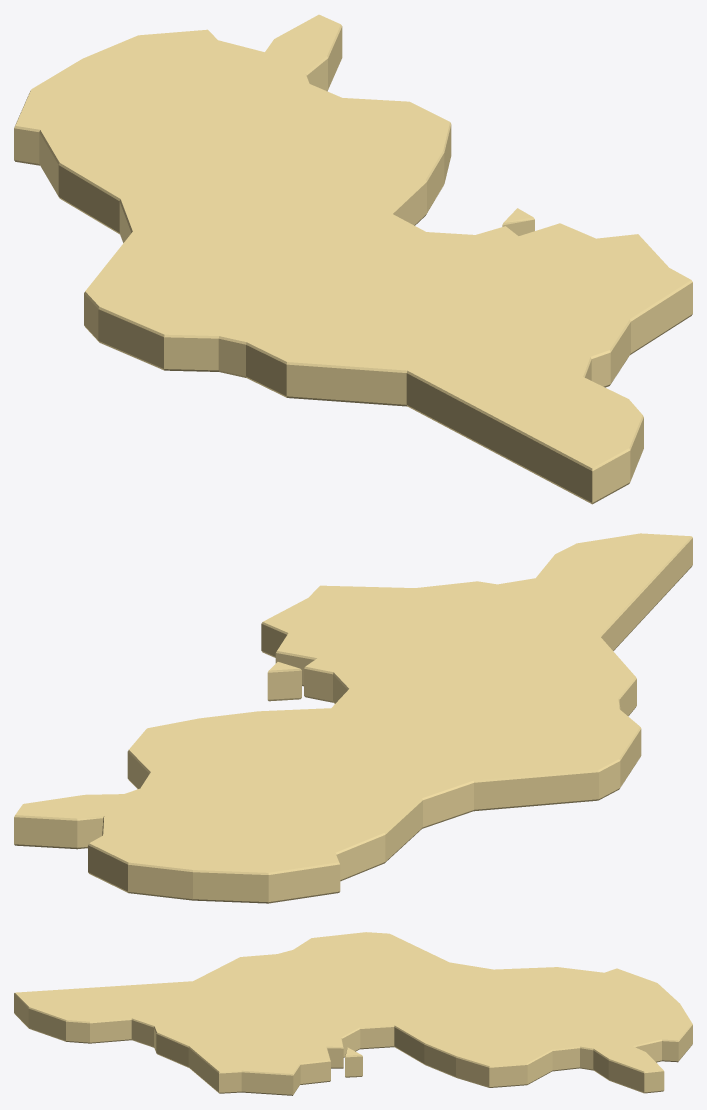
The model's file is TUN.glb.
3 views of the same model, one above another, from view 1: azimuth 30°, elevation 25°; view 2: azimuth 150°, elevation 25°; view 3: azimuth 270°, elevation 25° (orthographic). The views are drawn at different scales.
Size of the model in its own units: 0.951 by 0.068 by 1.91.
